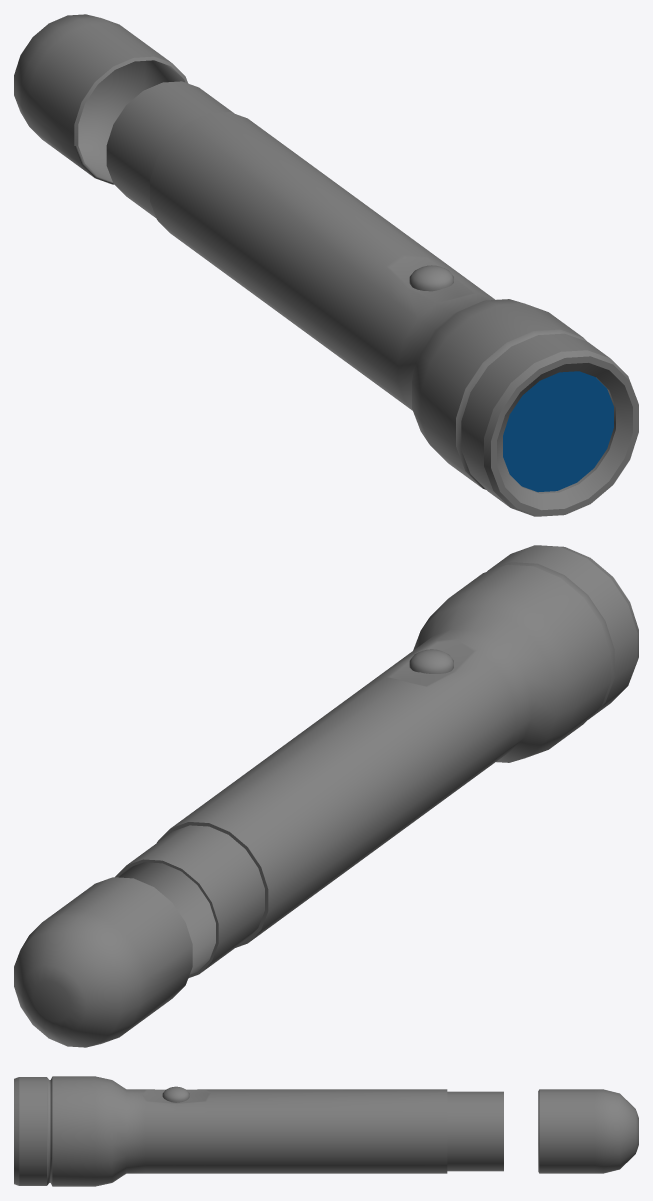
The model's file is Flashlight.fbx.
The picture shows the model from 3 angles, top to bottom: view 1: azimuth 30°, elevation 25°; view 2: azimuth 150°, elevation 25°; view 3: azimuth 270°, elevation 25°; orthographic projection. The views are drawn at different scales.
Parts seen in each view (by area): view 1: Flashlight, FlashlightCap; view 2: Flashlight, FlashlightCap; view 3: Flashlight, FlashlightCap.
Part boxes in pixels (x1,y1,x2,y2): Flashlight: (106, 81, 638, 516); FlashlightCap: (14, 14, 188, 184); Flashlight: (115, 545, 638, 978); FlashlightCap: (14, 877, 192, 1047); Flashlight: (14, 1076, 503, 1186); FlashlightCap: (538, 1089, 638, 1173).
Size of the model in its own units: 4.8 by 4.87 by 27.54.
